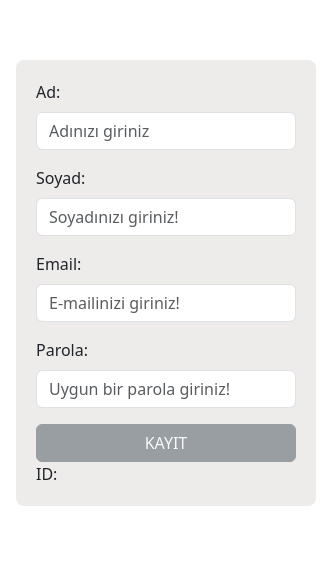
Test: Form Page › Error Messages › email input throws error for 123
Type "elif@gma" into the password field with test id "parola-input" at (166, 389), box [36,370,296,408]
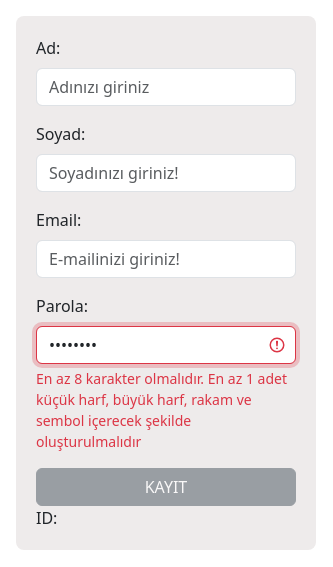
Result: the text "En az 8 karakter olmalıdır. En az 1 adet küçük harf, büyük harf, rakam ve sembol içerecek şekilde oluşturulmalıdır" is shown at [36,369,287,451]
